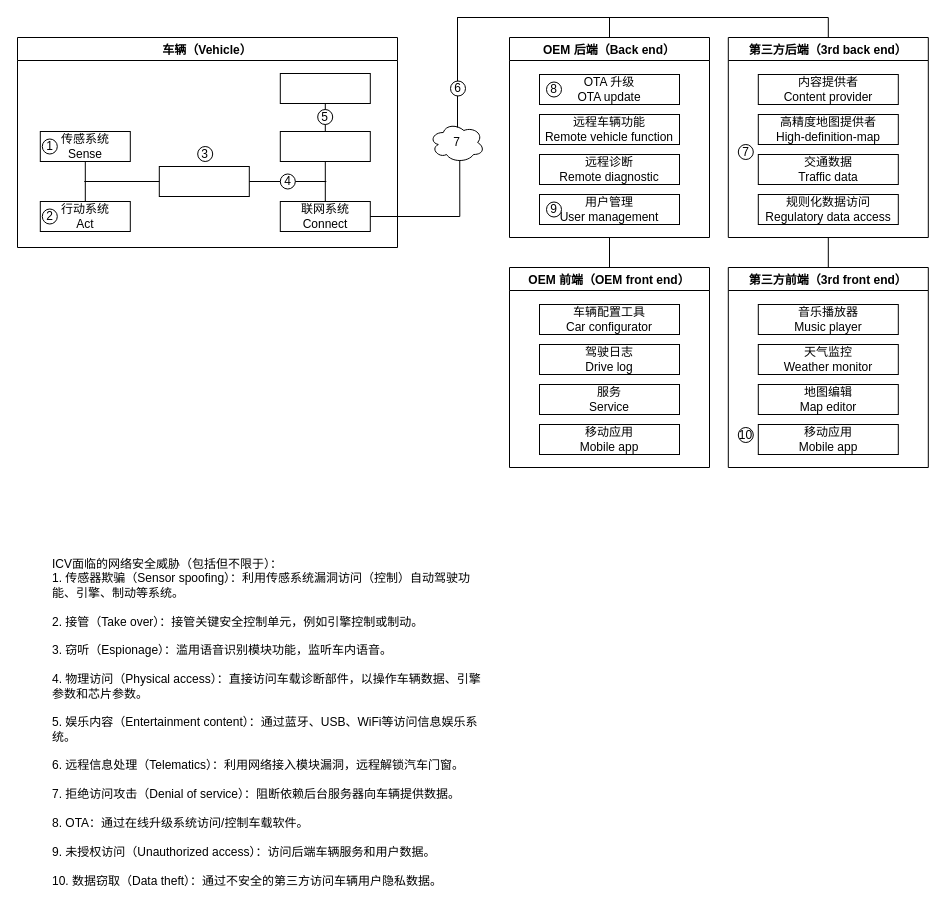
Image size: 946x905. Some labels were removed from this diagram. The centre of each missing label's shape, as x and y in pixels:
信息娱乐系统 Infotainment: (x=324, y=146)
车机系统 Handset: (x=324, y=88)
运算系统 Compute: (x=203, y=181)
